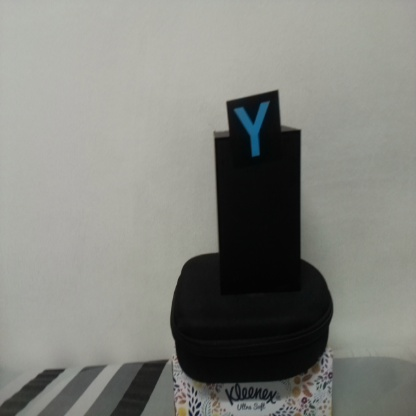id_14: (228, 100, 281, 166)
